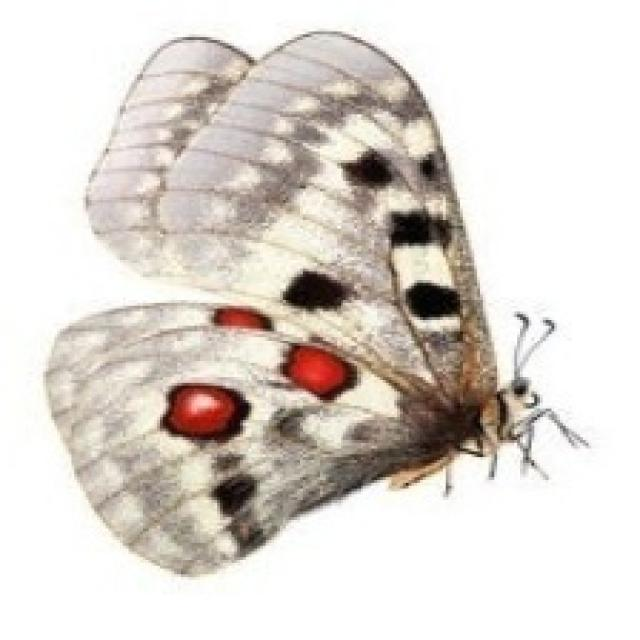butterfly: (40, 26, 589, 577)
